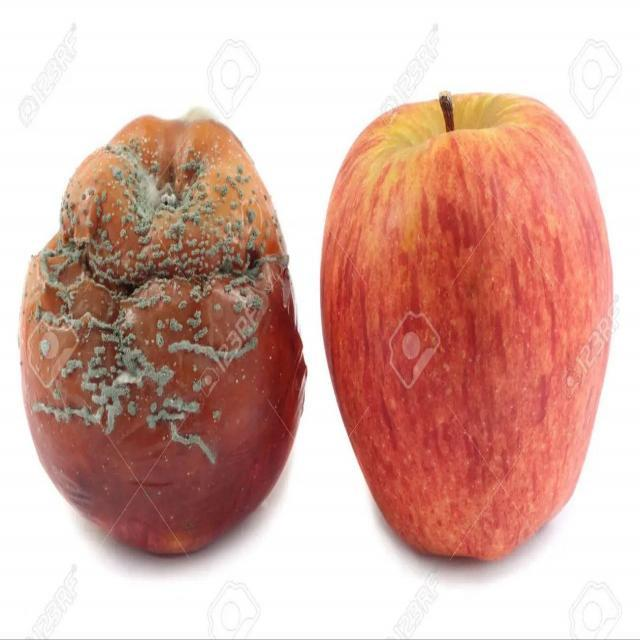Fresh Apple: (320, 88, 618, 576)
Rotten: (22, 102, 296, 568)
